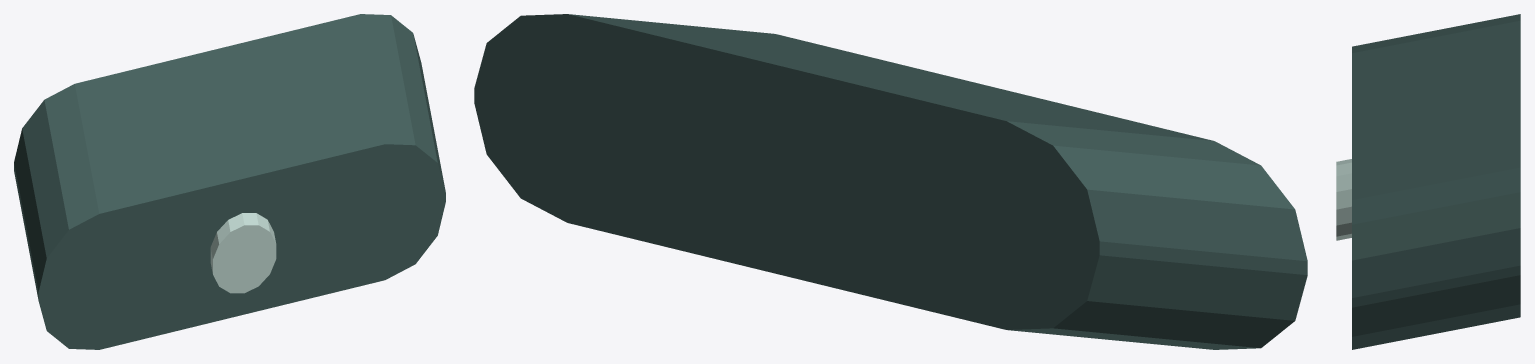
Rendered from Edge_ShutterH.gltf.
3 views of the same model, side by side, from view 1: azimuth 30°, elevation 25°; view 2: azimuth 150°, elevation 25°; view 3: azimuth 270°, elevation 25° (orthographic). The views are drawn at different scales.
Parts seen in each view (by area): view 1: Edge_ShutterH_baked; view 2: Edge_ShutterH_baked; view 3: Edge_ShutterH_baked.
Part boxes in pixels (x1=…): Edge_ShutterH_baked: x1=14, y1=14, x2=445, y2=349; Edge_ShutterH_baked: x1=474, y1=14, x2=1307, y2=349; Edge_ShutterH_baked: x1=1336, y1=14, x2=1520, y2=349.
Bounding box in the file's own units: 1.07 × 0.428 × 0.35.
